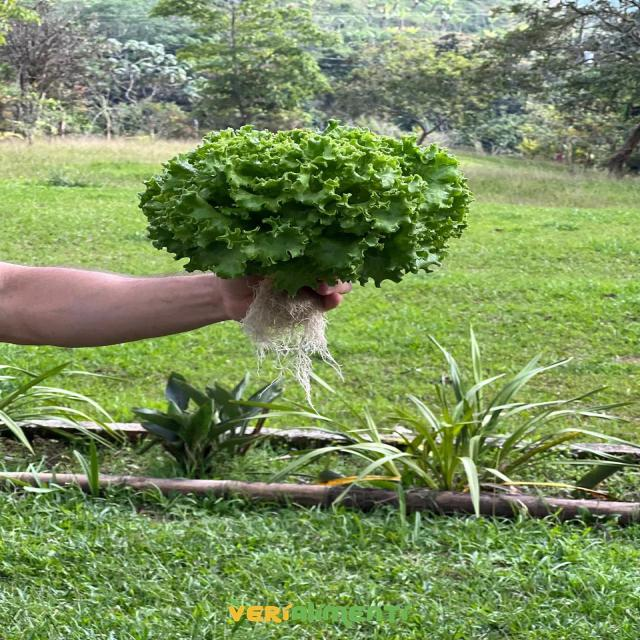lista_para_cosechar: (139, 120, 472, 392)
